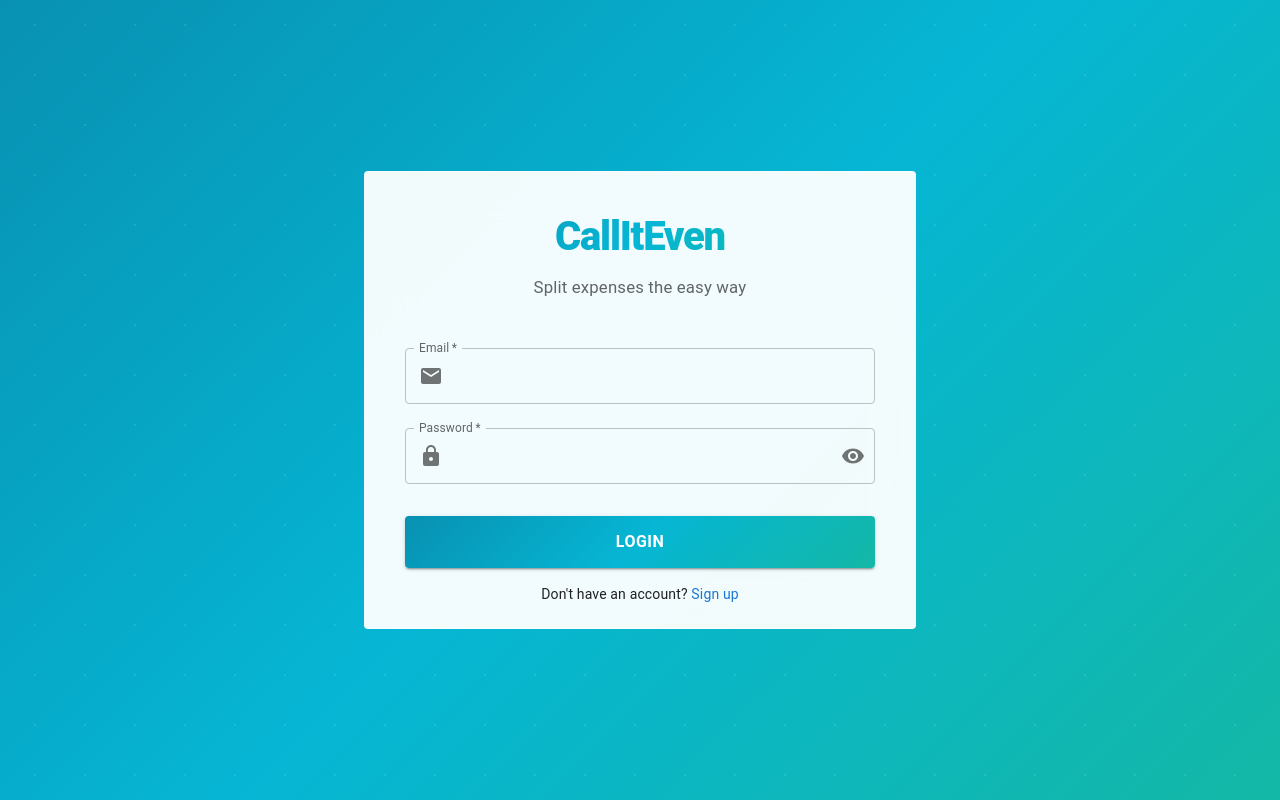
Test: Login Page › should display error on failed login
In the field labelled "Email *": coordinates (663, 376) [451, 348, 875, 404], type "wrong@example.com"
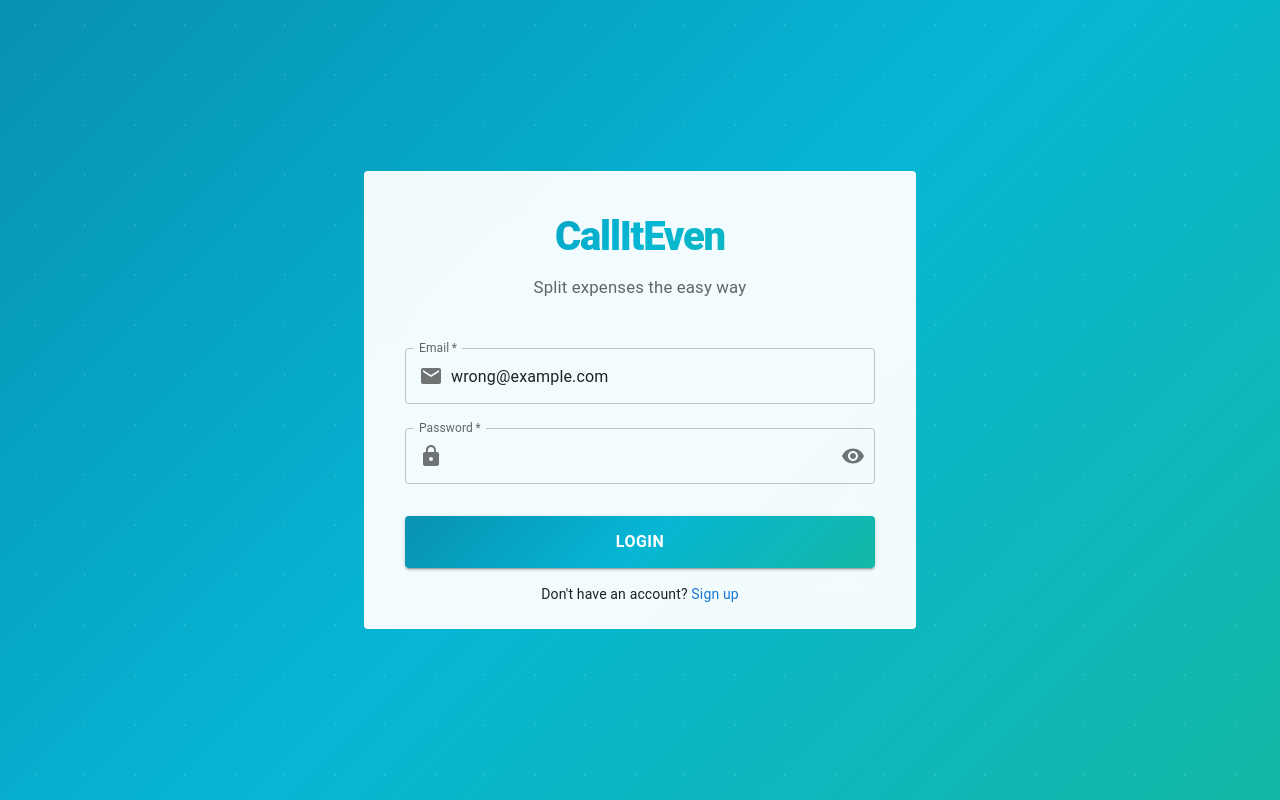
In the password field labelled "Password *": coordinates (638, 456) [451, 428, 825, 484], type "wrongpassword"
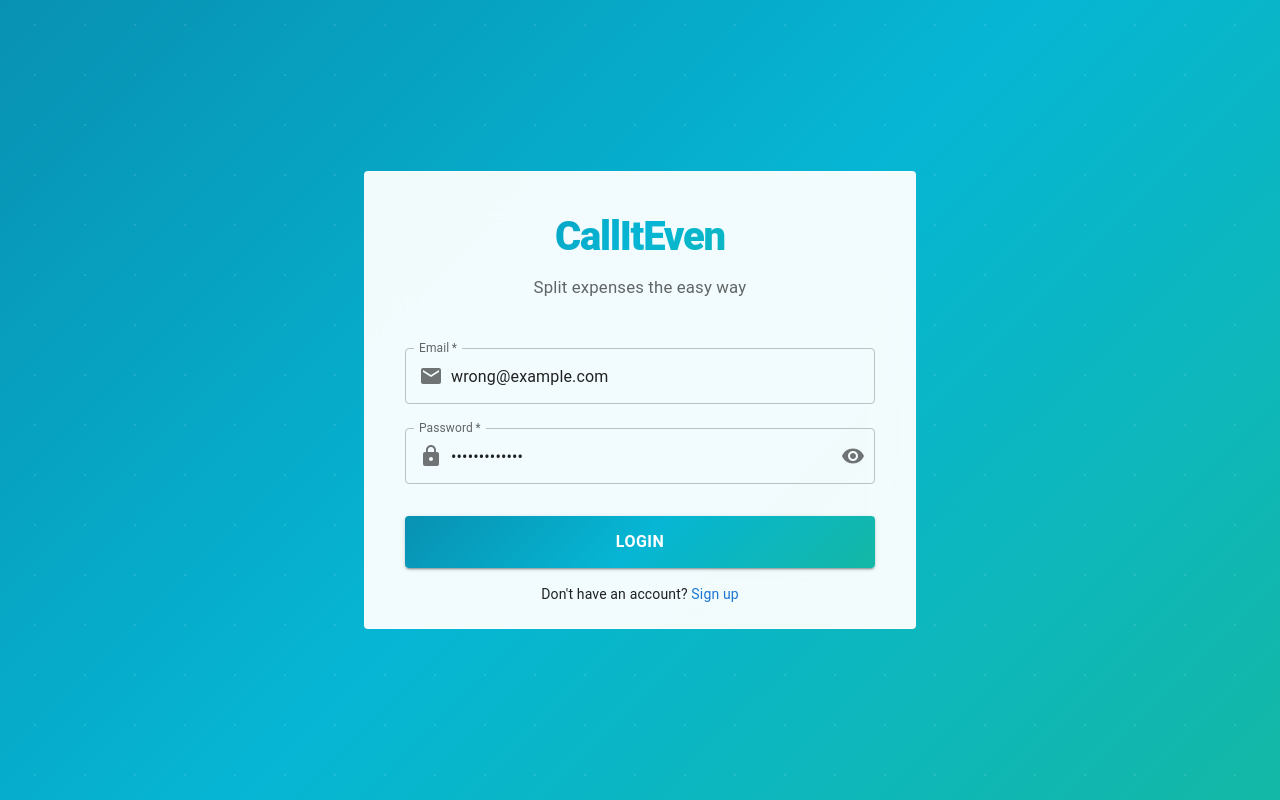
Click the button "Login": coordinates (640, 542) [405, 516, 875, 568]
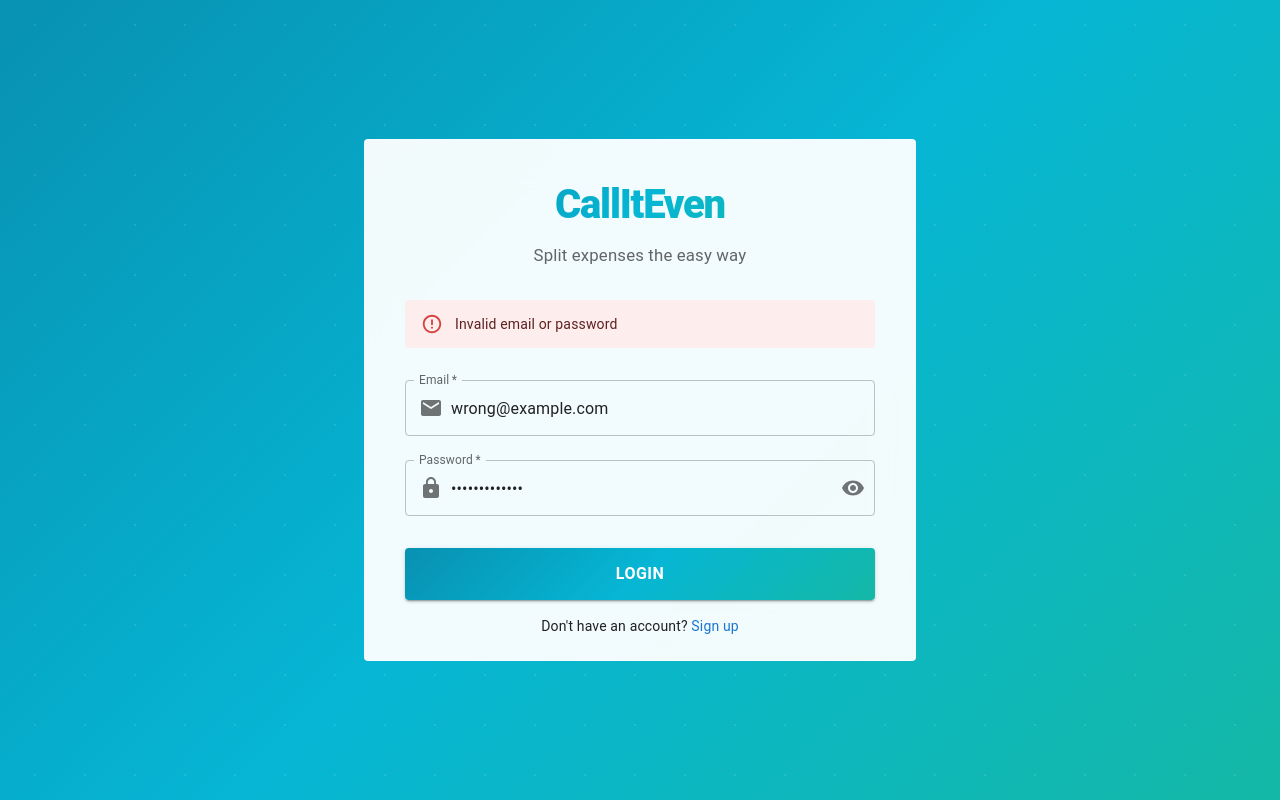
Expected: the text "Invalid email or password" is shown, [455, 316, 618, 332]
